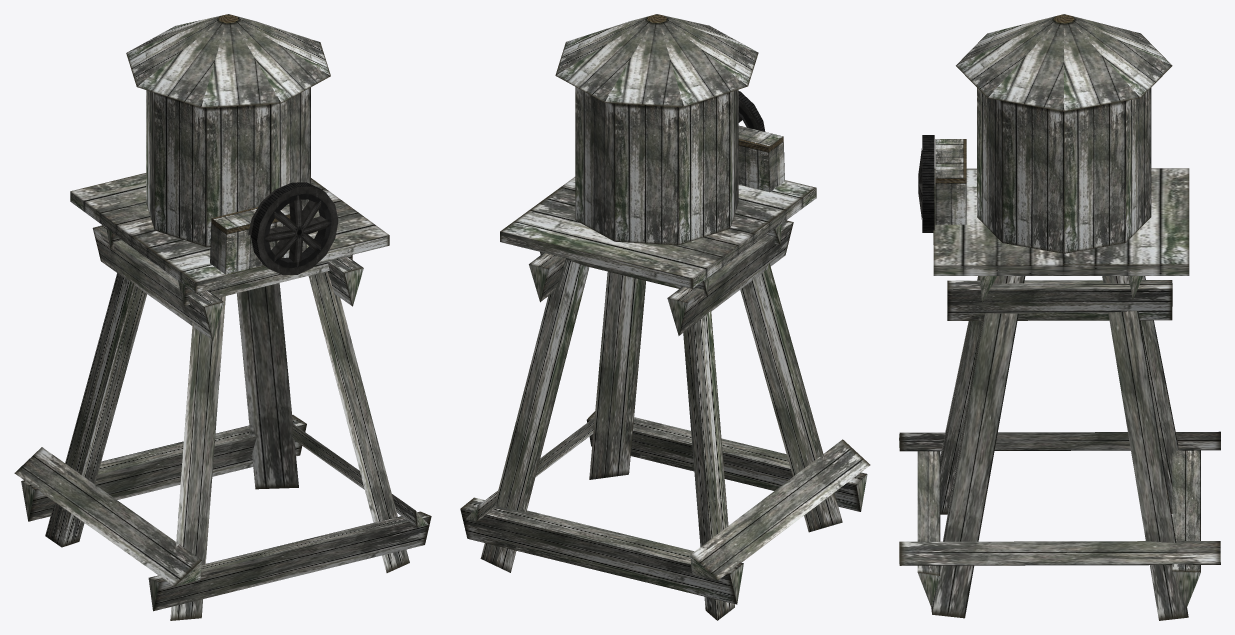
The model's file is pir_m_prp_mng_conveyor_tower.fbx.
3 views of the same model, side by side, from view 1: azimuth 30°, elevation 25°; view 2: azimuth 150°, elevation 25°; view 3: azimuth 270°, elevation 25° (orthographic). The views are drawn at different scales.
Visible parts, largest first — view 1: pCylinder1, pCylinder2, polySurface1, pCube26, pCube5, pCube9, pCube25, pCube13, pCube23, pCube12, pCube20, pCube3 (+10 smaller); view 2: pCylinder1, pCylinder2, polySurface1, pCube12, pCube5, pCube23, pCube25, pCube13, pCube9, pCube26, pCube20, pCube3 (+3 smaller); view 3: pCylinder1, pCylinder2, polySurface1, pCube23, pCube5, pCube19, pCube14, pCube13, pCube12, pCube25, pCube26, pCube3 (+2 smaller).
Boxes of the visible parts, bbox=[...] form: pCylinder1: bbox=[146, 87, 310, 247]; pCylinder2: bbox=[126, 14, 330, 107]; polySurface1: bbox=[70, 173, 389, 292]; pCube26: bbox=[148, 511, 431, 611]; pCube5: bbox=[237, 283, 298, 489]; pCube9: bbox=[45, 273, 146, 547]; pCube25: bbox=[170, 296, 225, 620]; pCube13: bbox=[14, 447, 201, 586]; pCube23: bbox=[308, 271, 409, 572]; pCube12: bbox=[21, 415, 306, 521]; pCube20: bbox=[92, 225, 223, 340]; pCube3: bbox=[210, 204, 306, 274]; pCylinder1: bbox=[575, 87, 738, 245]; pCylinder2: bbox=[555, 14, 758, 106]; polySurface1: bbox=[500, 177, 816, 288]; pCube12: bbox=[460, 497, 743, 604]; pCube5: bbox=[480, 259, 589, 572]; pCube23: bbox=[589, 271, 645, 479]; pCube25: bbox=[740, 263, 842, 532]; pCube13: bbox=[690, 439, 870, 580]; pCube9: bbox=[683, 310, 734, 620]; pCube26: bbox=[586, 411, 867, 511]; pCube20: bbox=[667, 220, 793, 335]; pCube3: bbox=[738, 125, 784, 192]; pCylinder1: bbox=[977, 88, 1151, 253]; pCylinder2: bbox=[956, 14, 1172, 111]; polySurface1: bbox=[933, 168, 1189, 275]; pCube23: bbox=[931, 276, 1025, 618]; pCube5: bbox=[1102, 276, 1188, 620]; pCube19: bbox=[947, 280, 1172, 320]; pCube14: bbox=[899, 541, 1220, 565]; pCube13: bbox=[899, 431, 1220, 451]; pCube12: bbox=[1172, 450, 1200, 608]; pCube25: bbox=[940, 276, 981, 514]; pCube26: bbox=[917, 451, 940, 606]; pCube3: bbox=[935, 139, 966, 224].
Size of the model in its own units: 1645 by 3125 by 1648.
1 material, 1 textured.
